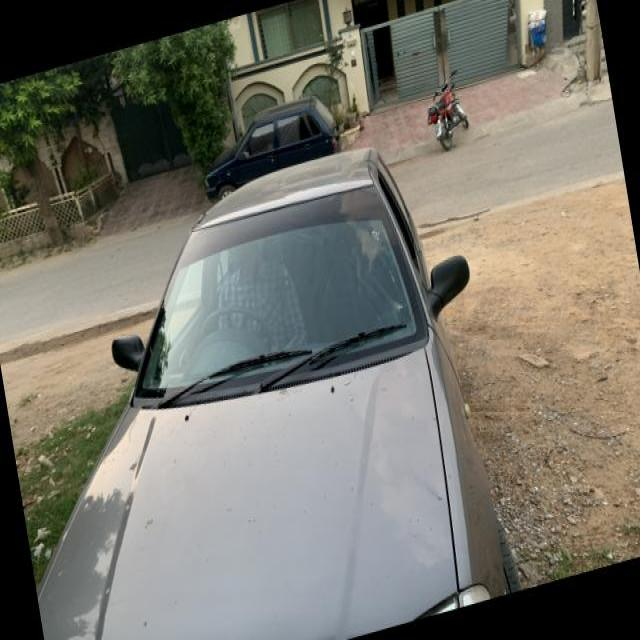no-seatbelt: (210, 265, 324, 356)
